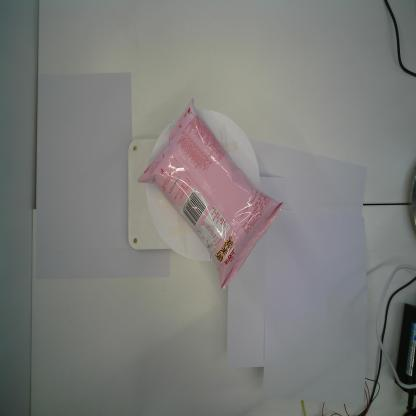Puffed Food: (136, 97, 285, 292)
